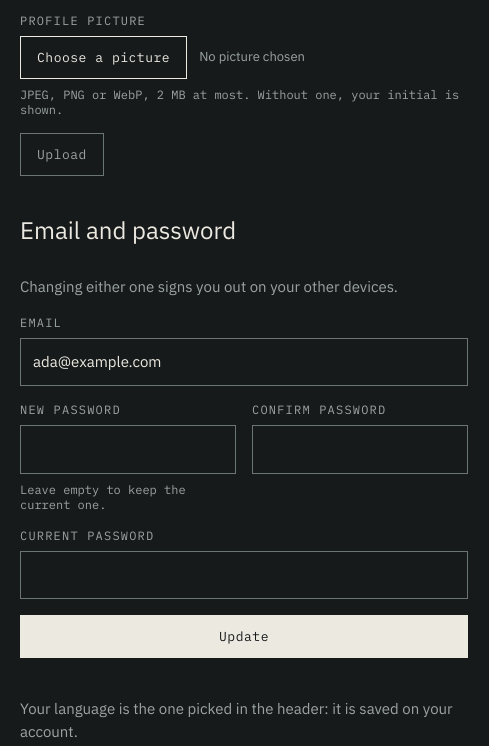
Scenario: ProfilePage email and password form › reads a 409 as "This email address is already used by another account."
(page scrolled)
Replace the text in the field labelled "Email" with "Ada@Example.org": (244, 362) [20,338,468,386]
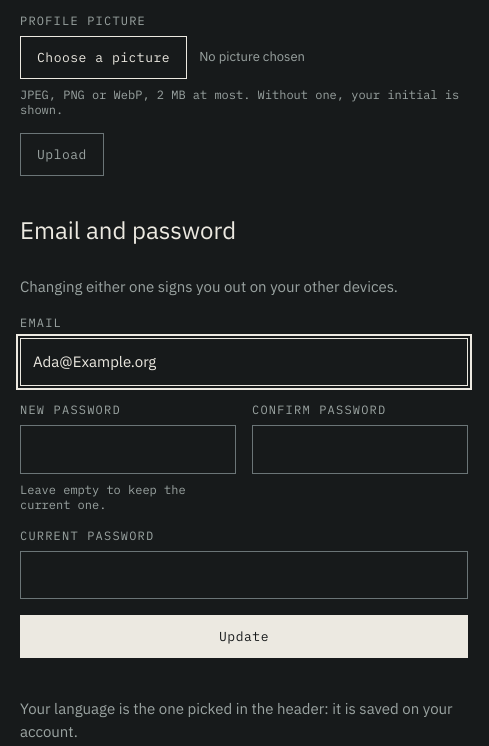
In the password field labelled "Current password": (244, 575) [20,551,468,599], type "secret-123"
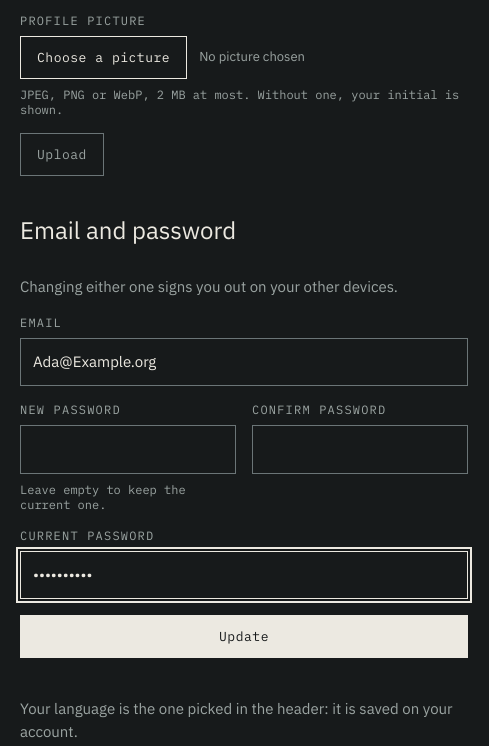
Click the button "Update": (244, 637) [20,615,468,658]
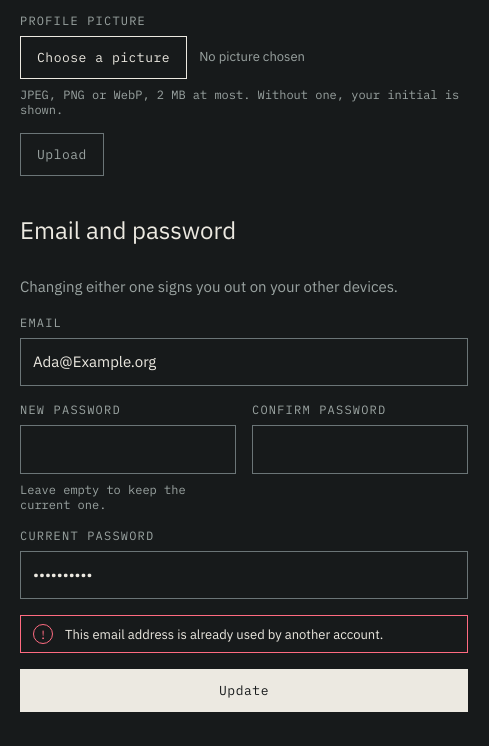
Expected: the text "This email address is already used by another account." is shown, [65,625,383,644]
